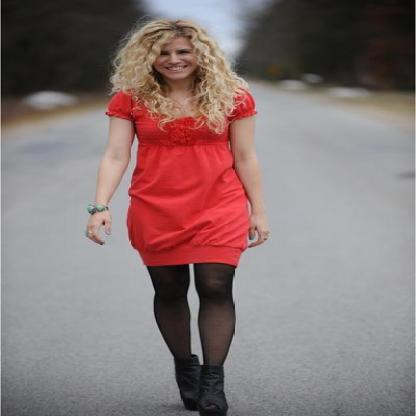dress: (105, 91, 256, 274)
shoe: (170, 345, 228, 415)
